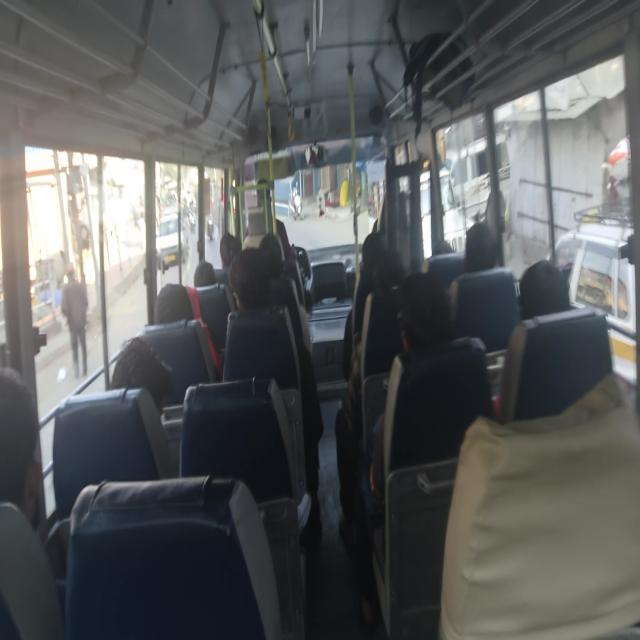person: (0, 355, 44, 527), (112, 334, 178, 402), (396, 277, 454, 352), (515, 258, 572, 321), (232, 244, 274, 306), (151, 282, 202, 324), (372, 249, 408, 308), (466, 220, 496, 272), (192, 250, 222, 295), (375, 172, 408, 211), (257, 228, 282, 274), (361, 233, 386, 274), (254, 174, 276, 217), (217, 230, 242, 266)
